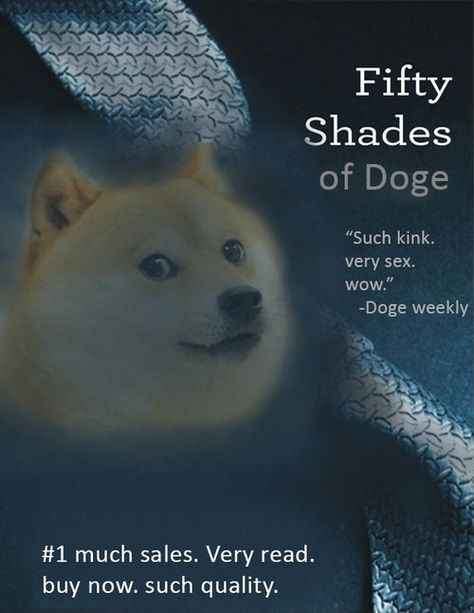doge: (6, 145, 294, 444)
